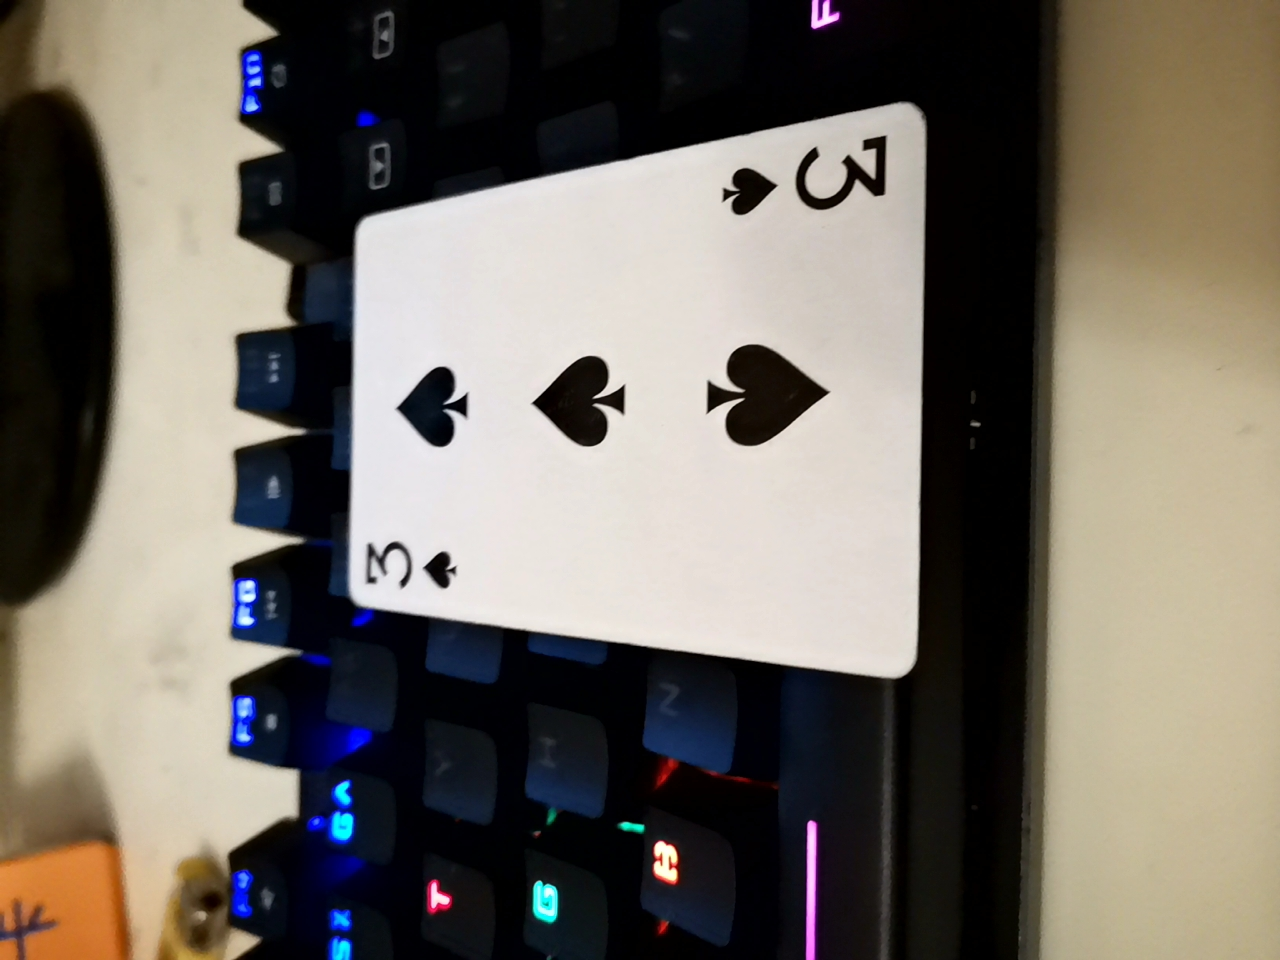ht 3: (326, 90, 919, 684)
